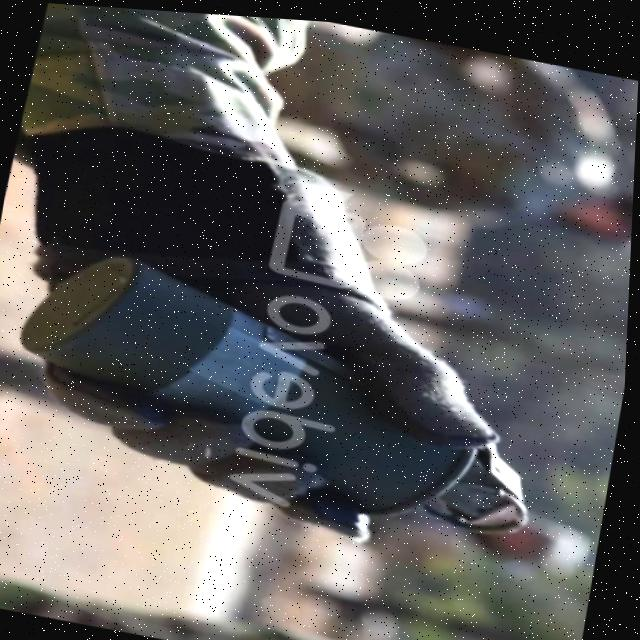grenade: (0, 230, 588, 562)
